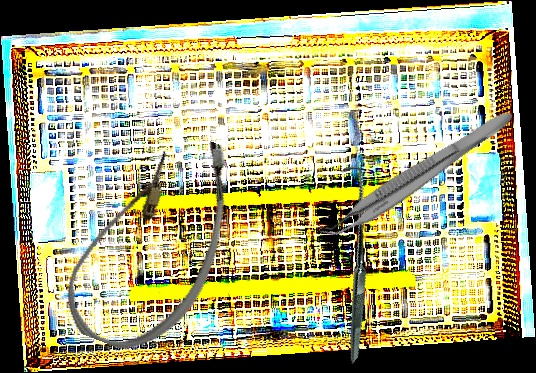Cannula: (51, 111, 254, 369)
Hook Surgical: (250, 160, 453, 365)
Tissue Forceps: (315, 97, 517, 251)
